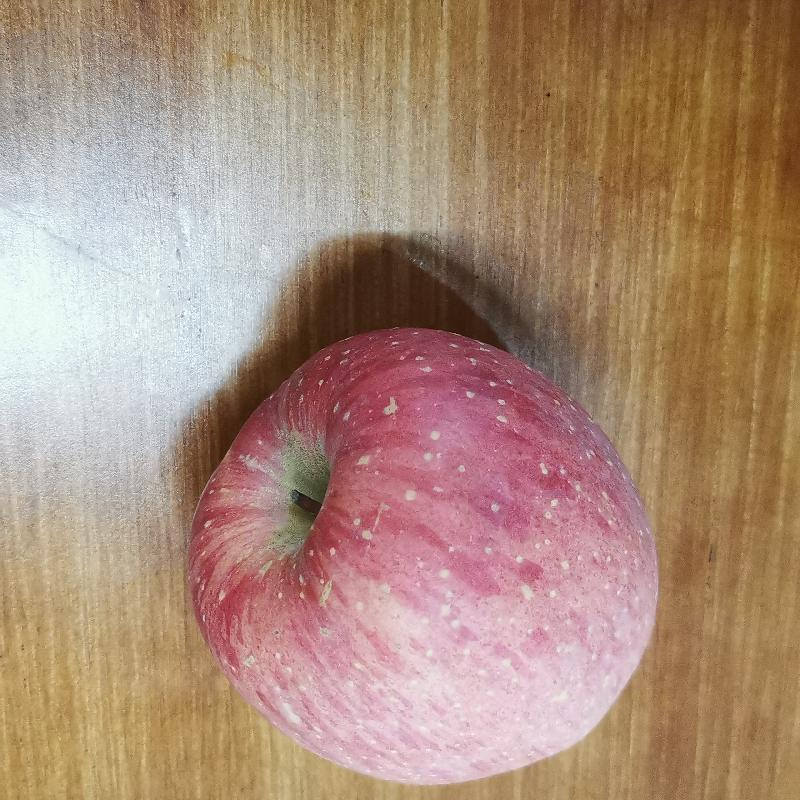apples: (172, 321, 665, 791)
